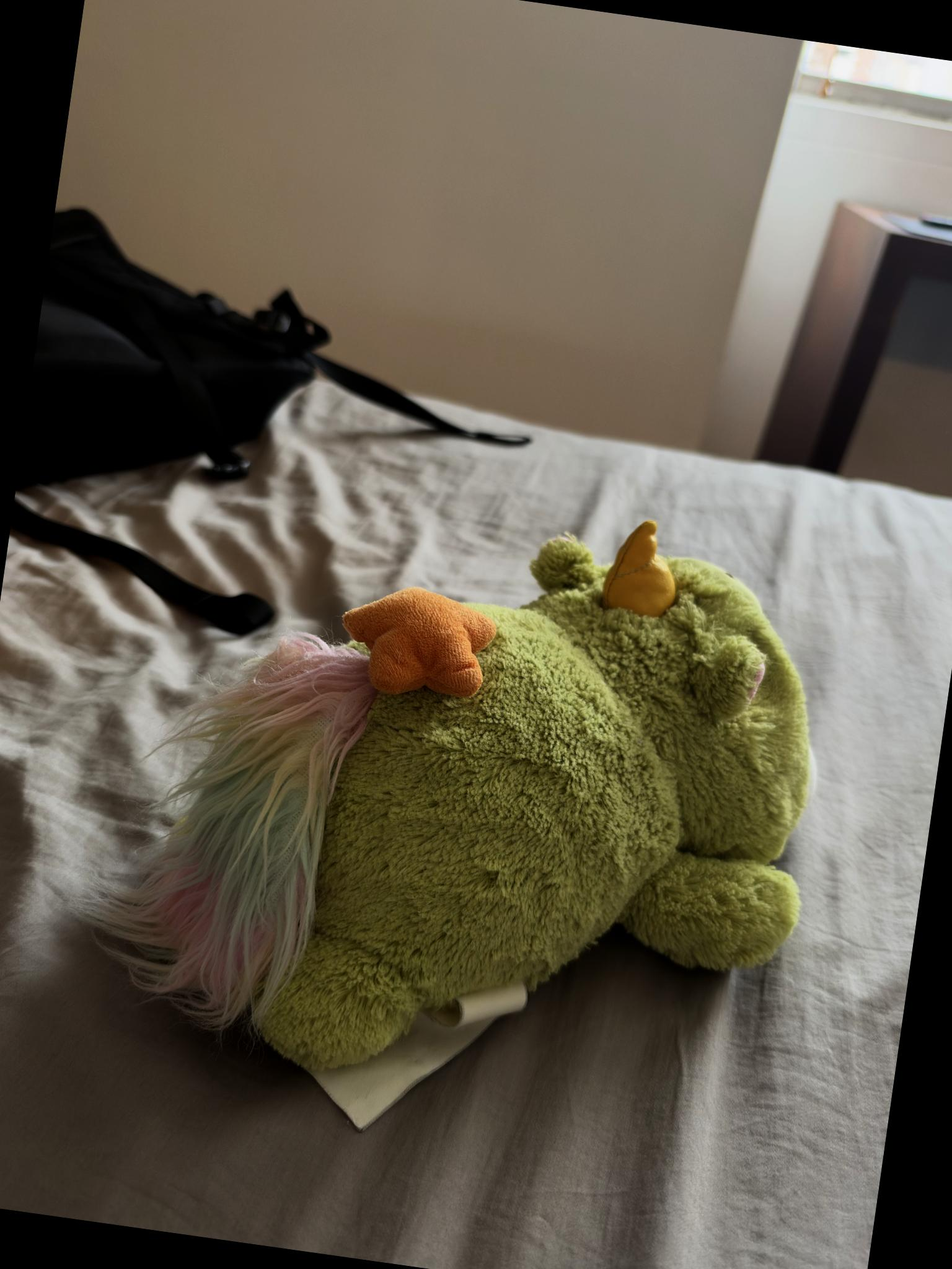peluche_martin: (68, 449, 853, 1139)
